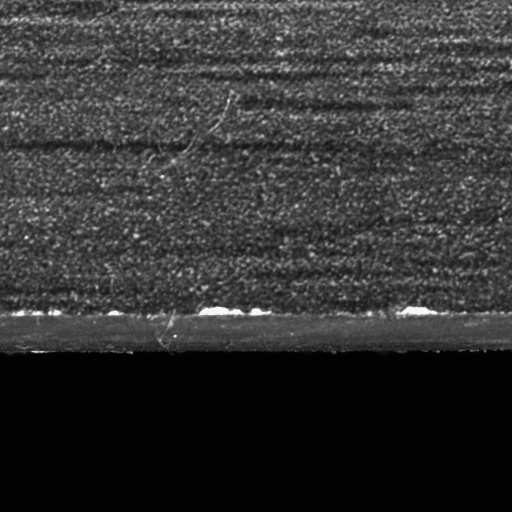huashang: (197, 305, 272, 318), (395, 307, 439, 316)
